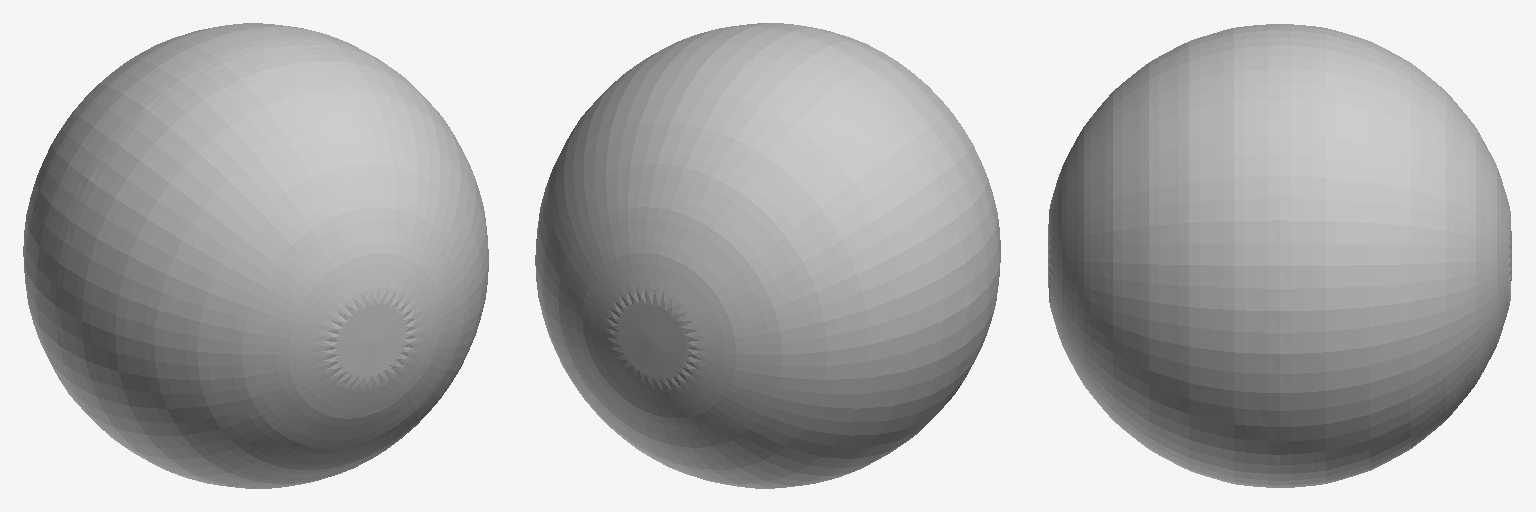
File: earth.obj
3 views of the same model, side by side, from view 1: azimuth 30°, elevation 25°; view 2: azimuth 150°, elevation 25°; view 3: azimuth 270°, elevation 25° (orthographic).
Visible parts, largest first — view 1: Object_3; view 2: Object_3; view 3: Object_3.
Boxes of the visible parts, x1,y1,x2,y2 form: Object_3: [23, 23, 488, 488]; Object_3: [535, 23, 1000, 488]; Object_3: [1048, 24, 1511, 487].
Size of the model in its own units: 1 by 1 by 1.